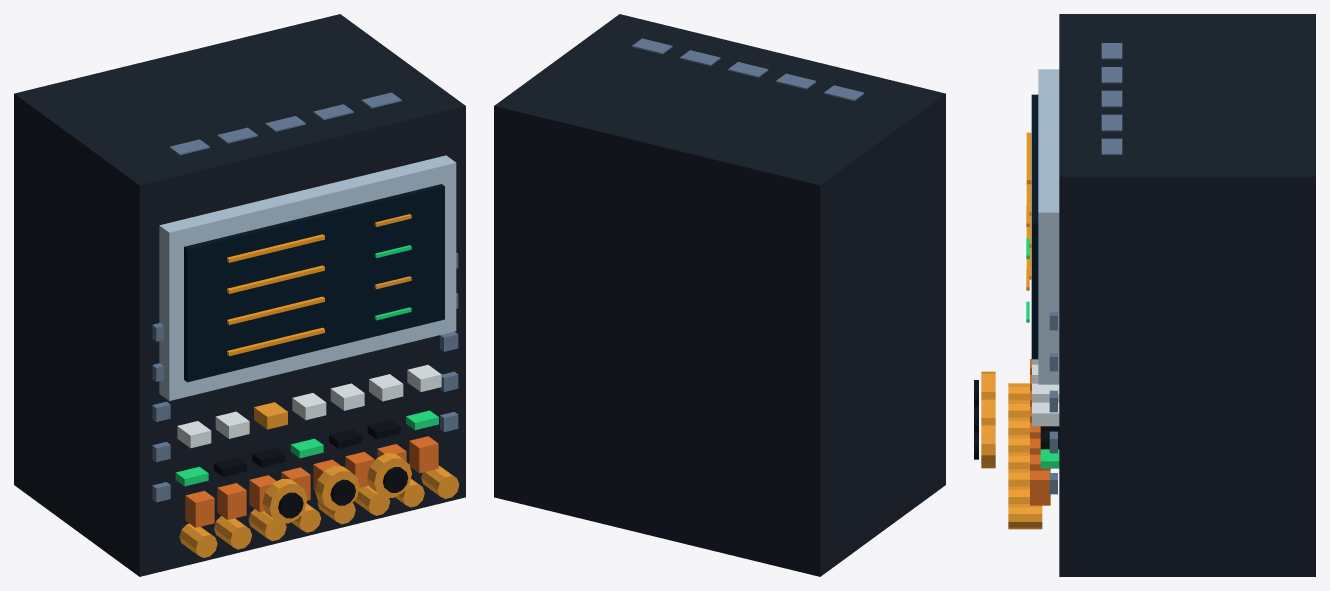
The model's file is 77_L89_ShieldingScenarioSafetyController.fbx.
The picture shows the model from 3 angles, left to right: view 1: azimuth 30°, elevation 25°; view 2: azimuth 150°, elevation 25°; view 3: azimuth 270°, elevation 25°; orthographic projection. The views are drawn at different scales.
Parts seen in each view (by area): view 1: L87_ShieldingScenarioSafetyController_Part_0000, L87_ShieldingScenarioSafetyController_Part_0002, L87_ShieldingScenarioSafetyController_Part_0001, L87_ShieldingScenarioSafetyController_Part_0004, L87_ShieldingScenarioSafetyController_Part_0009, L87_ShieldingScenarioSafetyController_Part_0008, L87_ShieldingScenarioSafetyController_Part_0006, L87_ShieldingScenarioSafetyController_Part_0003, L87_ShieldingScenarioSafetyController_Part_0007, L87_ShieldingScenarioSafetyController_Part_0005, L87_ShieldingScenarioSafetyController_Part_0010, L87_ShieldingScenarioSafetyController_Part_0012 (+1 smaller); view 2: L87_ShieldingScenarioSafetyController_Part_0000, L87_ShieldingScenarioSafetyController_Part_0008; view 3: L87_ShieldingScenarioSafetyController_Part_0000, L87_ShieldingScenarioSafetyController_Part_0001, L87_ShieldingScenarioSafetyController_Part_0004, L87_ShieldingScenarioSafetyController_Part_0008, L87_ShieldingScenarioSafetyController_Part_0002, L87_ShieldingScenarioSafetyController_Part_0009, L87_ShieldingScenarioSafetyController_Part_0006, L87_ShieldingScenarioSafetyController_Part_0003, L87_ShieldingScenarioSafetyController_Part_0014, L87_ShieldingScenarioSafetyController_Part_0005.
Boxes of the visible parts, box(x1,y1,x2,y2) form: L87_ShieldingScenarioSafetyController_Part_0000: box(14, 14, 465, 576); L87_ShieldingScenarioSafetyController_Part_0002: box(184, 184, 444, 382); L87_ShieldingScenarioSafetyController_Part_0001: box(159, 155, 456, 400); L87_ShieldingScenarioSafetyController_Part_0004: box(179, 214, 459, 557); L87_ShieldingScenarioSafetyController_Part_0009: box(185, 436, 438, 527); L87_ShieldingScenarioSafetyController_Part_0008: box(152, 92, 458, 502); L87_ShieldingScenarioSafetyController_Part_0006: box(177, 365, 441, 448); L87_ShieldingScenarioSafetyController_Part_0003: box(227, 234, 324, 356); L87_ShieldingScenarioSafetyController_Part_0007: box(214, 420, 400, 476); L87_ShieldingScenarioSafetyController_Part_0005: box(175, 245, 438, 486); L87_ShieldingScenarioSafetyController_Part_0010: box(262, 479, 307, 523); L87_ShieldingScenarioSafetyController_Part_0012: box(315, 466, 359, 510); L87_ShieldingScenarioSafetyController_Part_0000: box(494, 14, 945, 576); L87_ShieldingScenarioSafetyController_Part_0008: box(632, 38, 864, 101); L87_ShieldingScenarioSafetyController_Part_0000: box(1059, 14, 1315, 576); L87_ShieldingScenarioSafetyController_Part_0001: box(1038, 69, 1059, 384); L87_ShieldingScenarioSafetyController_Part_0004: box(1008, 206, 1042, 529); L87_ShieldingScenarioSafetyController_Part_0008: box(1049, 43, 1122, 494); L87_ShieldingScenarioSafetyController_Part_0002: box(1031, 94, 1038, 359); L87_ShieldingScenarioSafetyController_Part_0009: box(1030, 359, 1050, 505); L87_ShieldingScenarioSafetyController_Part_0006: box(1032, 359, 1059, 426); L87_ShieldingScenarioSafetyController_Part_0003: box(1026, 132, 1031, 279); L87_ShieldingScenarioSafetyController_Part_0014: box(981, 423, 995, 468); L87_ShieldingScenarioSafetyController_Part_0005: box(1026, 238, 1059, 468).
Bounding box in the file's own units: 112 × 129 × 99.6.
